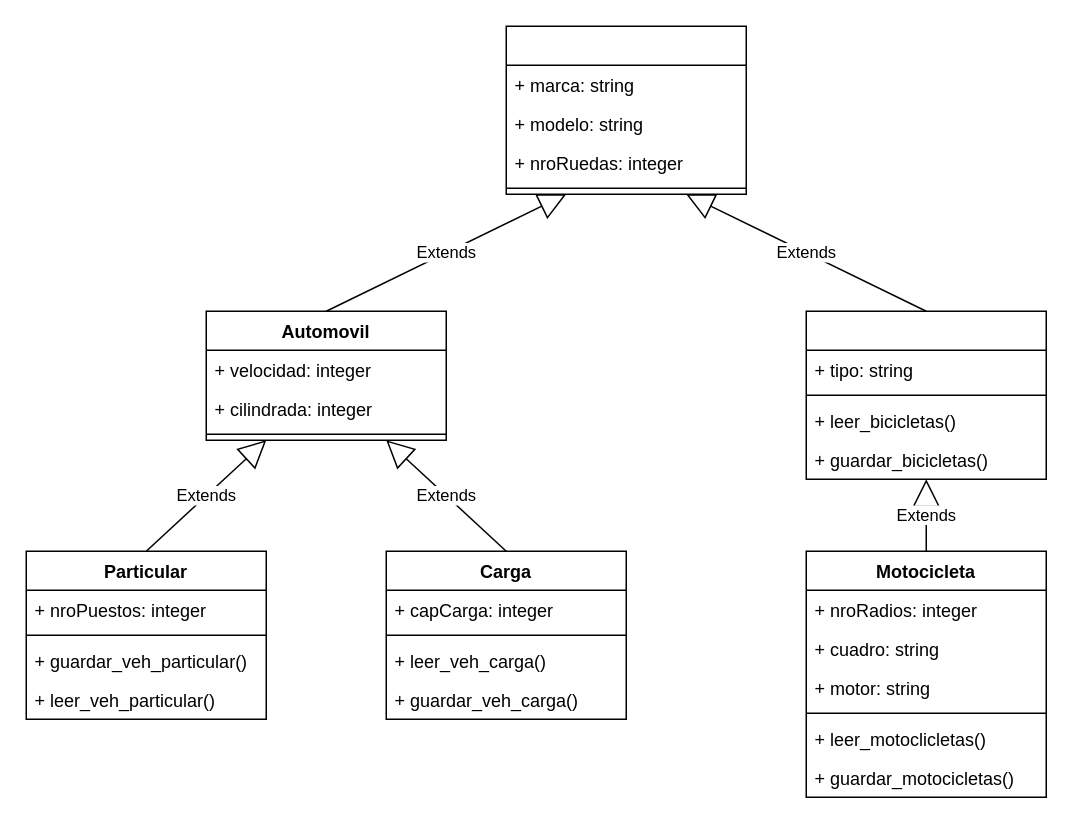
The diagram is 1073 pixels wide and 828 high, and some of its shapes have lost their labels. The shapes that lost their labels are listed below. From the top down, each one's box as (x1, y1, x2, y2) in pixels, then its label:
(505, 25, 746, 194): Vehiculo
(805, 310, 1046, 479): Biciletas
